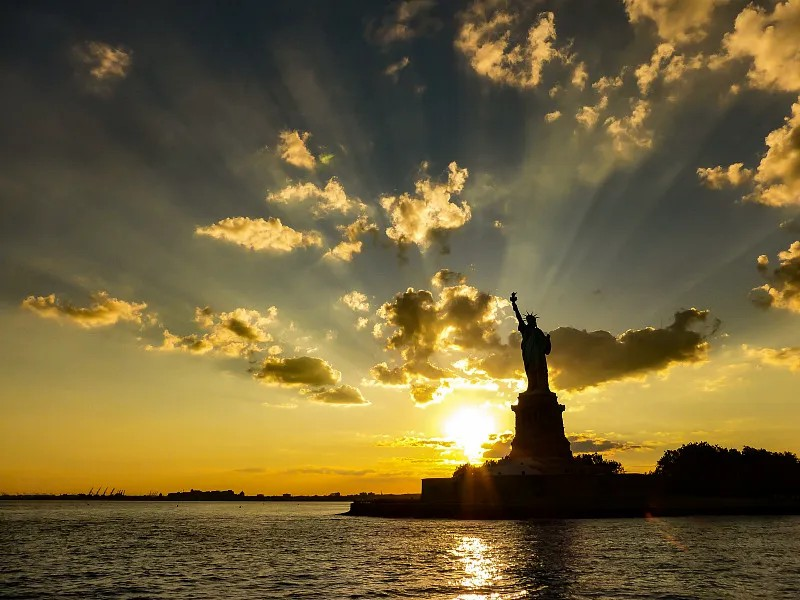SL: (507, 290, 572, 456)
